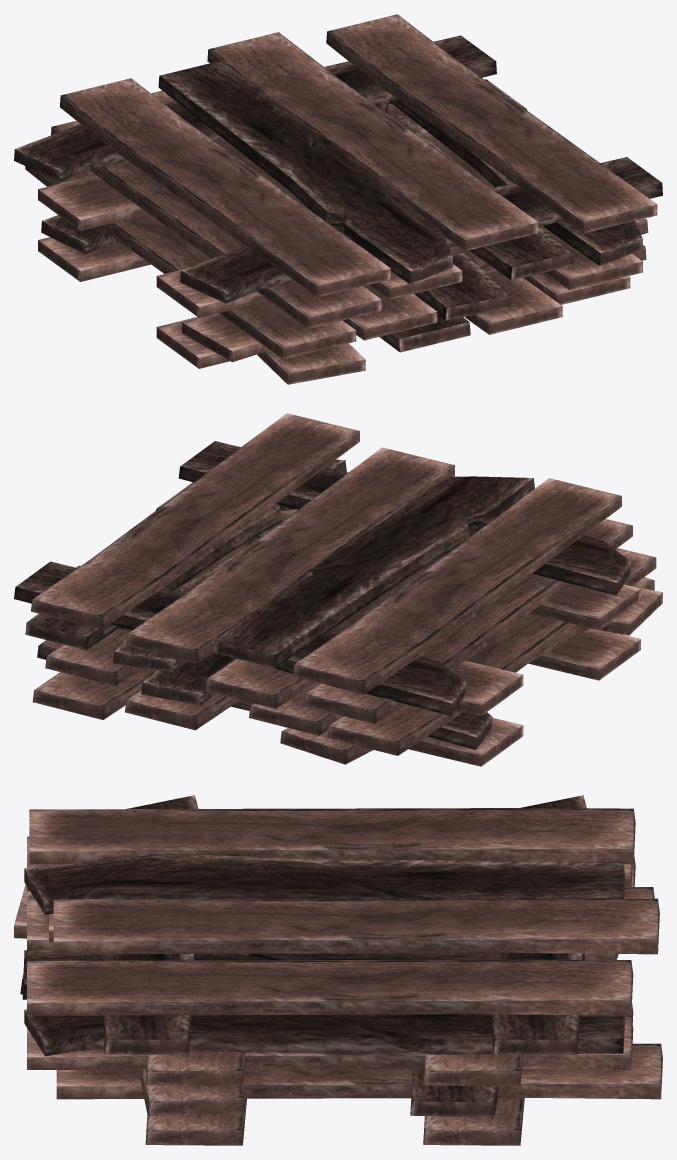
Rendered from wooden_board_pile02.dae.
3 renders of one model, top to bottom at view 1: azimuth 30°, elevation 25°; view 2: azimuth 150°, elevation 25°; view 3: azimuth 270°, elevation 25°, orthographic. The views are drawn at different scales.
Visible parts, largest first — view 1: polySurface2, polySurface5, polySurface6, polySurface4, polySurface9, polySurface15, polySurface18, polySurface7, polySurface8, polySurface10, polySurface17, polySurface12 (+12 smaller); view 2: polySurface2, polySurface5, polySurface4, polySurface6, polySurface15, polySurface9, polySurface18, polySurface7, polySurface11, polySurface10, polySurface23, polySurface24 (+11 smaller); view 3: polySurface2, polySurface4, polySurface5, polySurface6, polySurface10, polySurface23, polySurface16, polySurface18, polySurface7, polySurface25, polySurface13, polySurface8 (+6 smaller).
Boxes of the visible parts, x1,y1,x2,y2 form: polySurface2: (326, 14, 657, 233); polySurface5: (60, 78, 390, 297); polySurface6: (158, 61, 452, 284); polySurface4: (207, 32, 538, 250); polySurface9: (51, 120, 381, 328); polySurface15: (25, 166, 356, 359); polySurface18: (14, 35, 496, 181); polySurface7: (180, 157, 662, 303); polySurface8: (38, 79, 526, 230); polySurface10: (389, 99, 642, 265); polySurface17: (376, 102, 573, 279); polySurface12: (415, 252, 510, 320); polySurface2: (31, 413, 359, 629); polySurface5: (293, 478, 621, 694); polySurface4: (126, 447, 454, 663); polySurface6: (213, 476, 534, 668); polySurface15: (327, 548, 656, 755); polySurface9: (304, 519, 632, 723); polySurface18: (14, 561, 466, 716); polySurface7: (178, 441, 630, 595); polySurface11: (205, 552, 449, 708); polySurface10: (25, 459, 346, 650); polySurface23: (32, 668, 156, 719); polySurface24: (528, 628, 640, 680); polySurface2: (27, 959, 633, 1015); polySurface4: (53, 898, 659, 954); polySurface5: (29, 808, 635, 864); polySurface6: (24, 854, 625, 914); polySurface10: (24, 1009, 625, 1056); polySurface23: (56, 1043, 662, 1099); polySurface16: (27, 1015, 633, 1069); polySurface18: (490, 795, 586, 1054); polySurface7: (101, 795, 198, 1054); polySurface25: (423, 1098, 524, 1145); polySurface13: (145, 953, 246, 1086); polySurface8: (423, 953, 523, 1086).
Bounding box in the file's own units: 1.51 × 0.3305 × 1.6.
